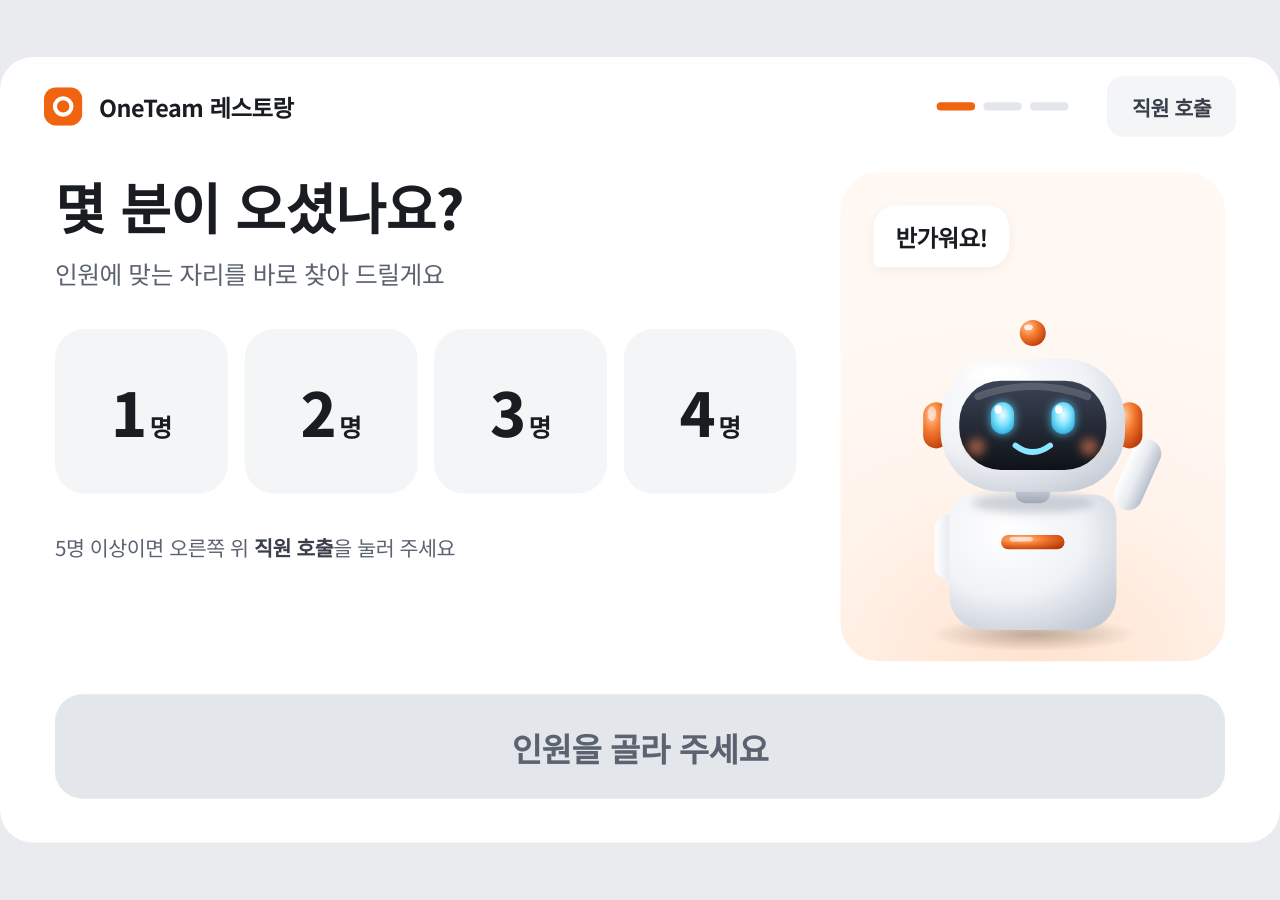
Scenario: 입구 키오스크 흐름 › 로봇이 있으면 K1 → K2 → K4 (2명 → 입구에서 가까운 2인석 5번)
Later steps or results of the test are not shown.
Click the button named "2명". click: (331, 412)
box: [244,329,418,494]
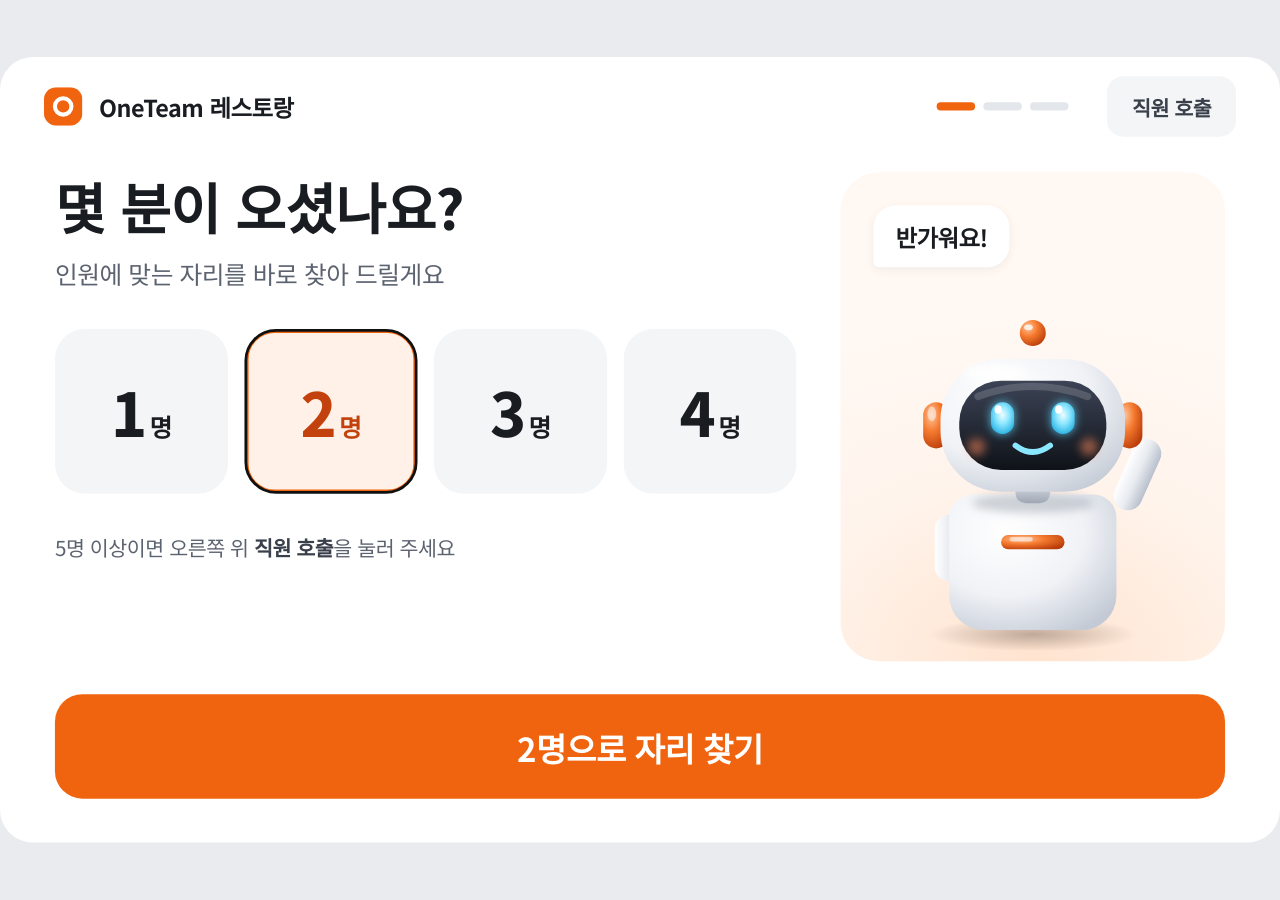
Click the button "2명으로 자리 찾기". click: (640, 747)
box: [55,694,1225,799]
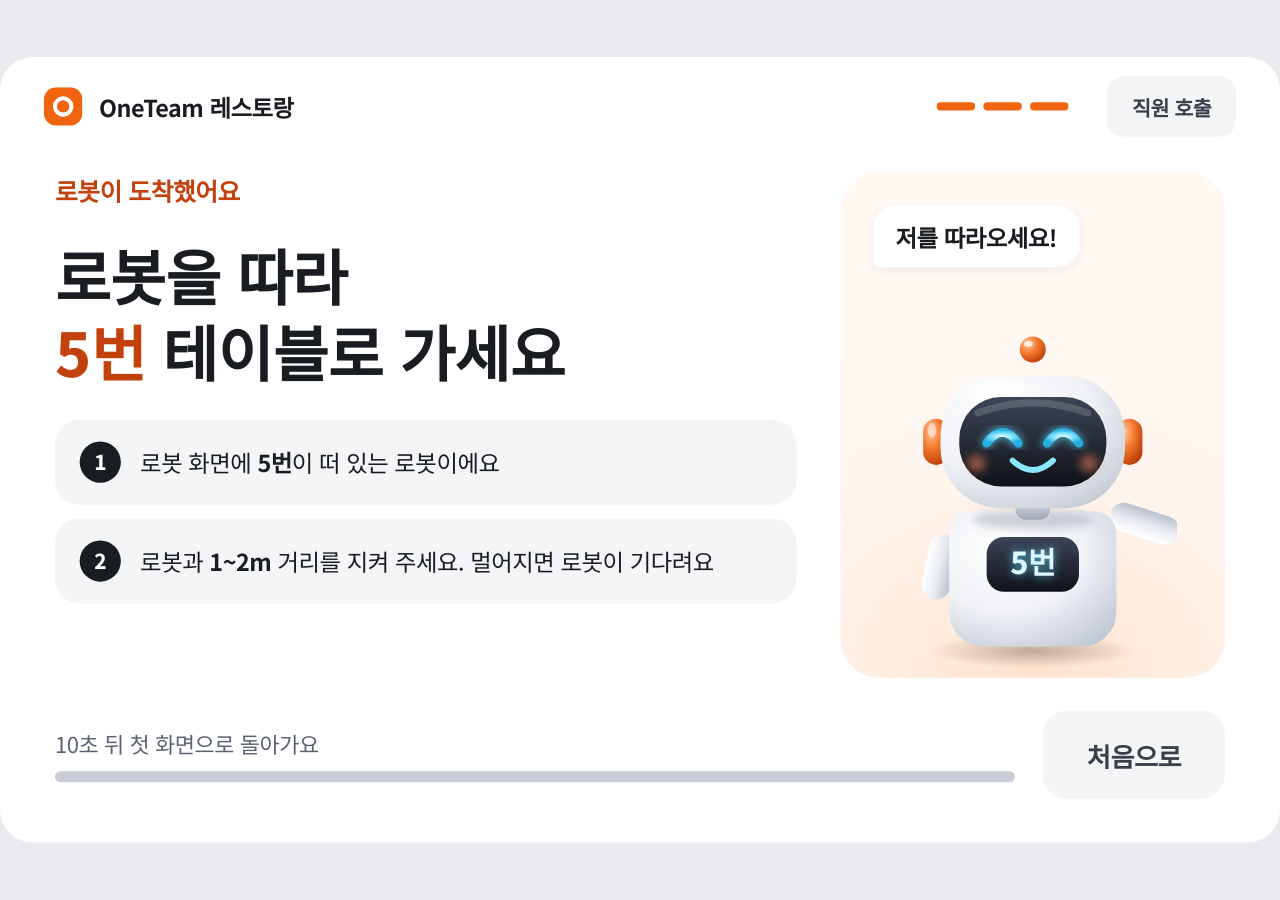
Result: the heading "로봇을 따라5번 테이블로 가세요" is shown at [55,232,565,395]
Result: the text "로봇이 도착했어요" is shown at [55,173,240,208]
Result: the text "10초 뒤 첫 화면으로 돌아가요" is shown at [55,727,319,760]
